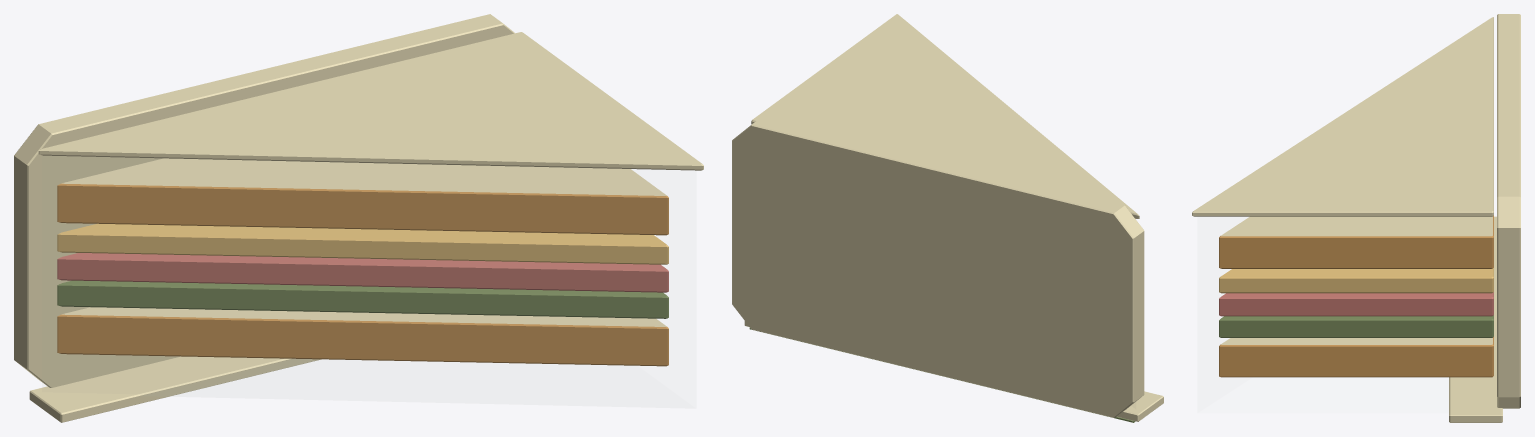
The model's file is sandwich.glb.
3 views of the same model, side by side, from view 1: azimuth 30°, elevation 25°; view 2: azimuth 150°, elevation 25°; view 3: azimuth 270°, elevation 25° (orthographic). The views are drawn at different scales.
Visible parts, largest first — view 1: sandwich; view 2: sandwich; view 3: sandwich.
Boxes of the visible parts, x1=… form: sandwich: x1=14, y1=14, x2=703, y2=422; sandwich: x1=732, y1=14, x2=1163, y2=422; sandwich: x1=1192, y1=14, x2=1520, y2=422.
Bounding box in the file's own units: 0.16 × 0.0813 × 0.1098.
